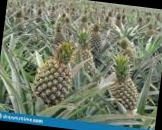Pineapple: (34, 38, 78, 106), (109, 53, 140, 110)
